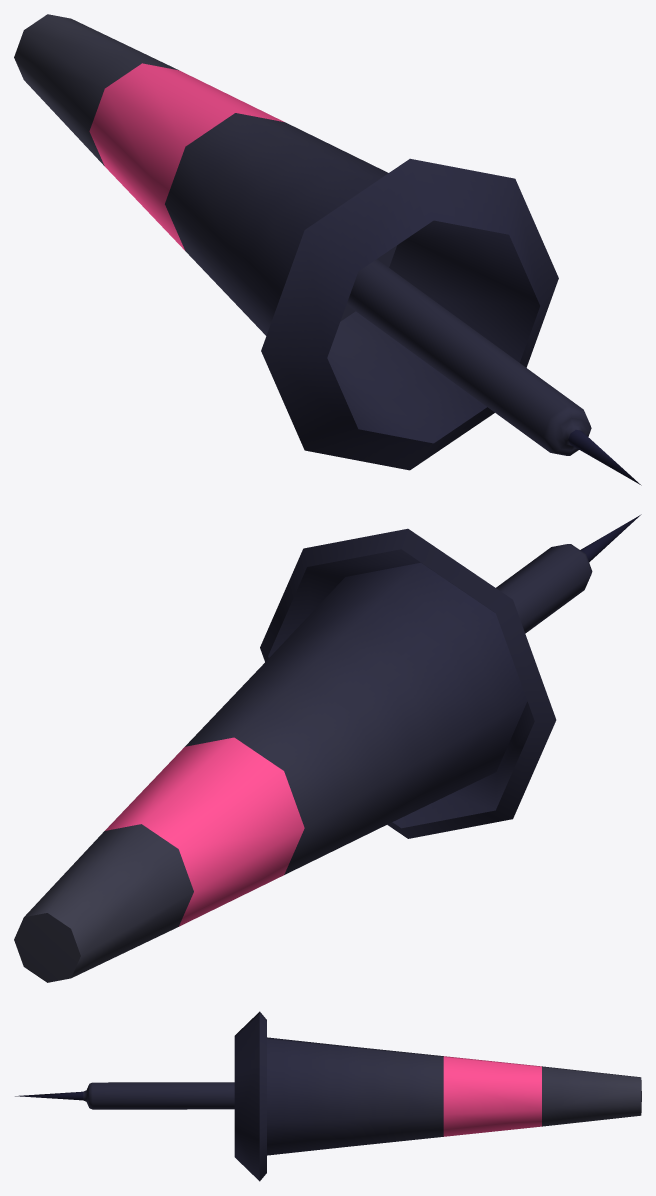
The model's file is Eyeliner_02_v02.fbx.
The picture shows the model from 3 angles, top to bottom: view 1: azimuth 30°, elevation 25°; view 2: azimuth 150°, elevation 25°; view 3: azimuth 270°, elevation 25°; orthographic projection. The views are drawn at different scales.
Visible parts, largest first — view 1: Eyeliner_02_v02; view 2: Eyeliner_02_v02; view 3: Eyeliner_02_v02.
Boxes of the visible parts, box(x1,y1,x2,y2) form: Eyeliner_02_v02: box(14, 14, 641, 485); Eyeliner_02_v02: box(14, 514, 641, 982); Eyeliner_02_v02: box(15, 1011, 641, 1181).
Bounding box in the file's own units: 0.0181 × 0.0181 × 0.0627.
Materials: 1 (1 with a texture image).
